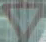Give way: (5, 3, 43, 41)
